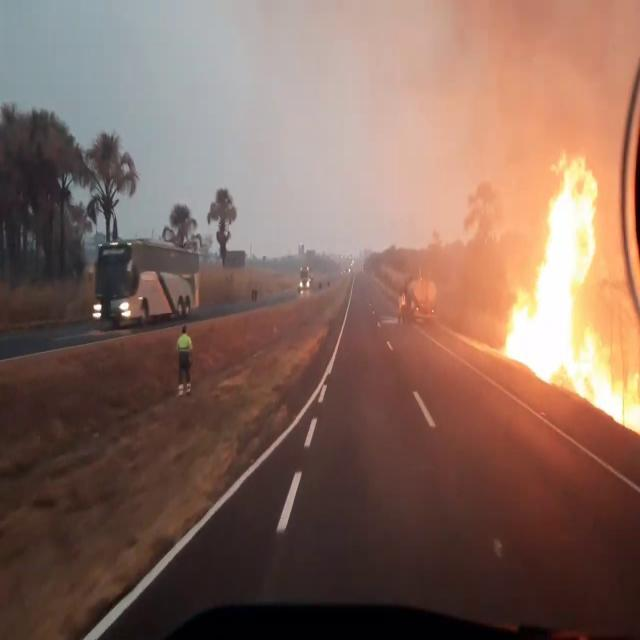Fire: (497, 146, 639, 428)
